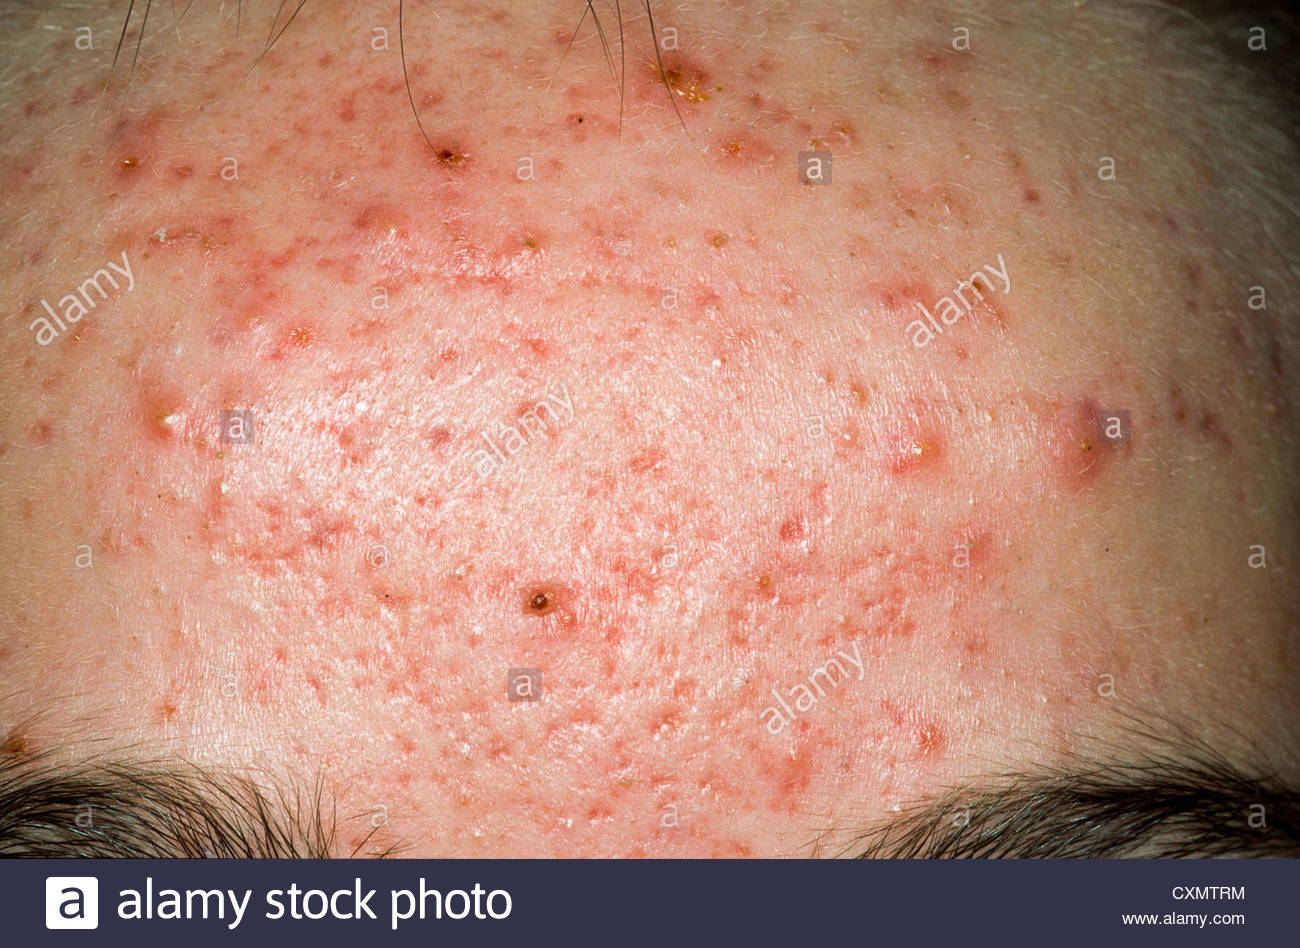acene: (90, 102, 1200, 780)
